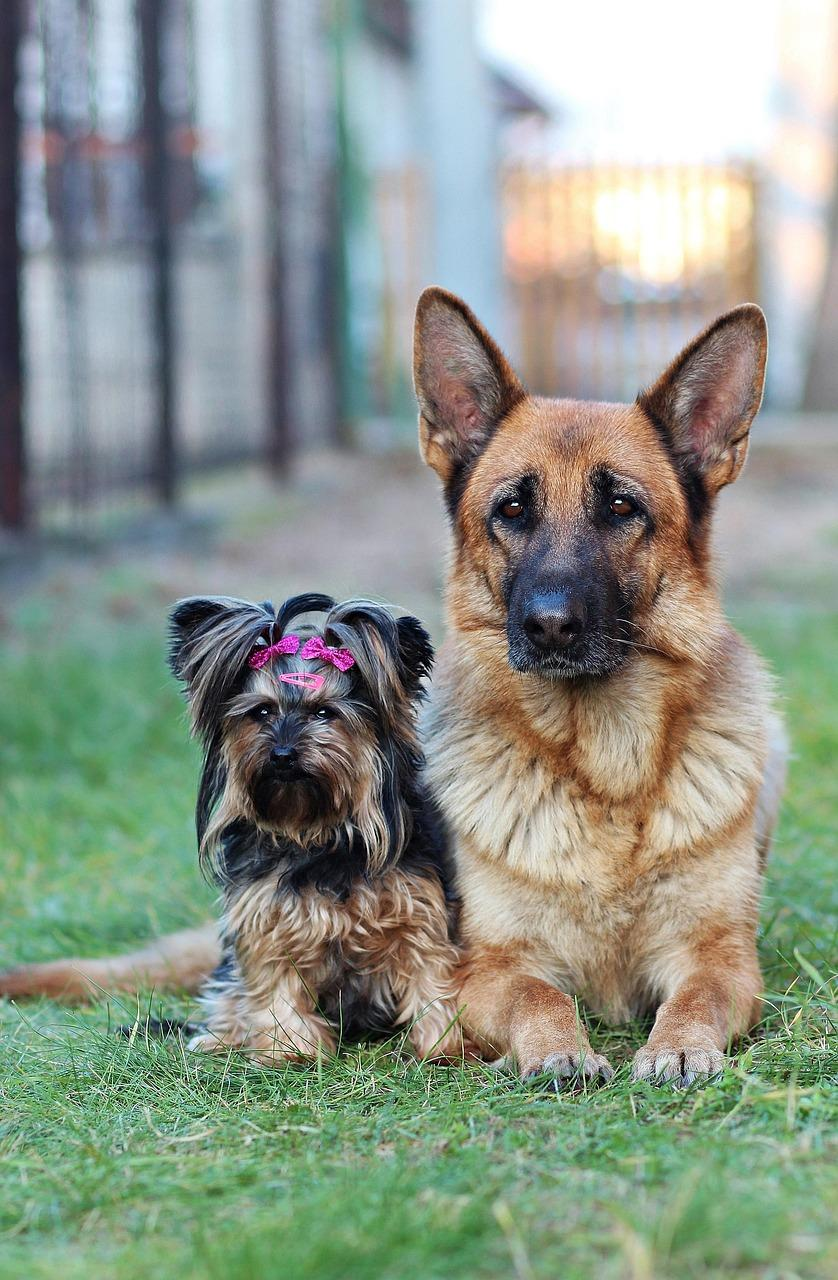german_shepherd: (408, 308, 747, 707)
